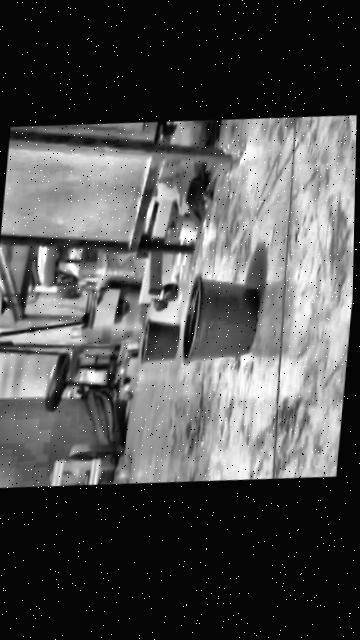pot: (177, 267, 260, 368), (138, 313, 181, 365)
